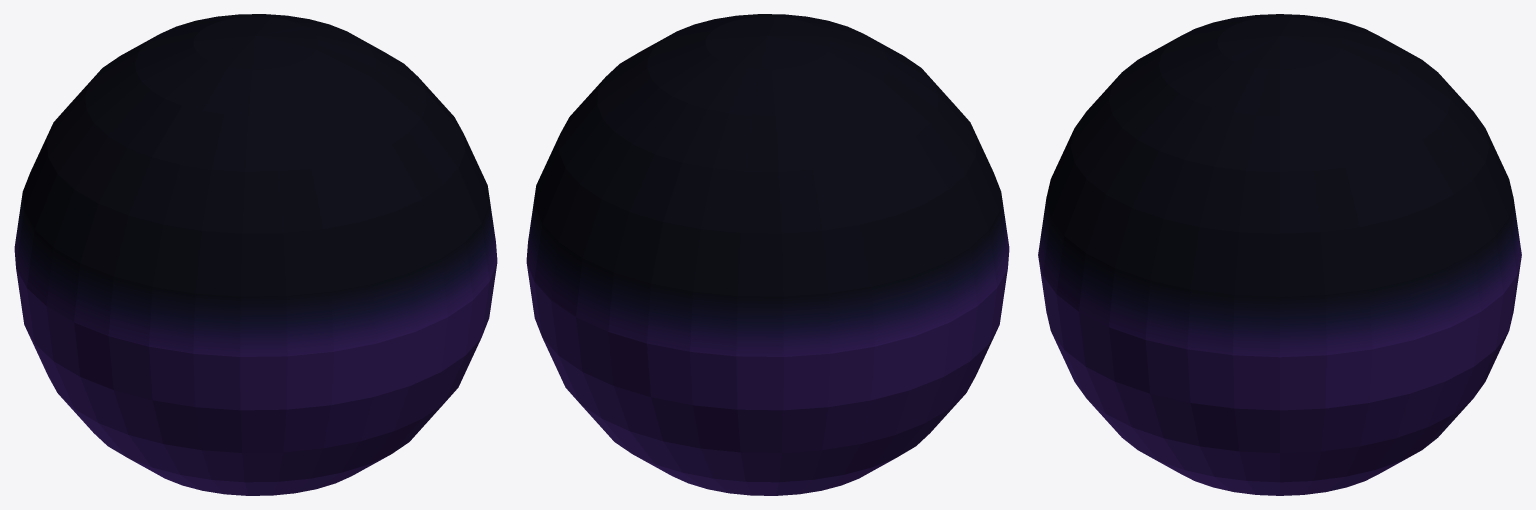
Rendered from space.glb.
3 renders of one model, left to right at view 1: azimuth 30°, elevation 25°; view 2: azimuth 150°, elevation 25°; view 3: azimuth 270°, elevation 25°, orthographic.
Parts seen in each view (by area): view 1: sky; view 2: sky; view 3: sky.
Boxes of the visible parts, bbox=[...] form: sky: bbox=[14, 14, 497, 495]; sky: bbox=[526, 14, 1009, 495]; sky: bbox=[1038, 14, 1521, 495].
Size of the model in its own units: 640 by 640 by 640.
3 materials, 3 textured.
